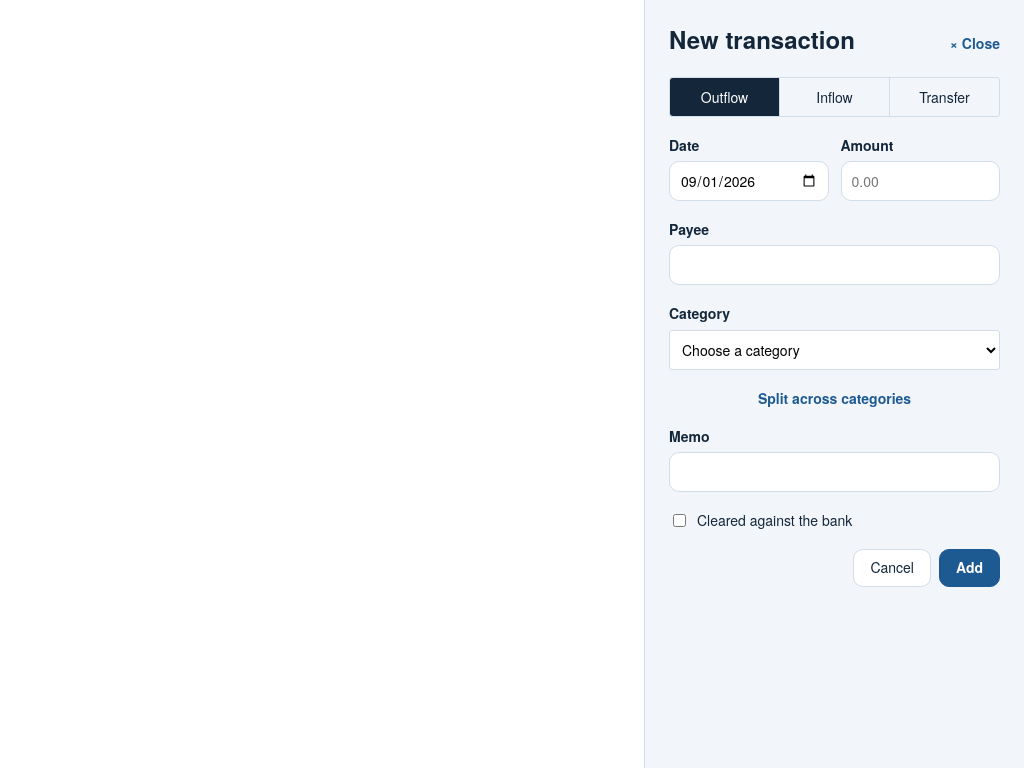
Test: TransactionForm (#54) › rejects split lines that do not add up to the total
Type "30.00" into the field labelled "Amount" at (920,181), box [840, 161, 1000, 201]
Click the button "Split across categories" at (834,398), box [669, 388, 1000, 408]
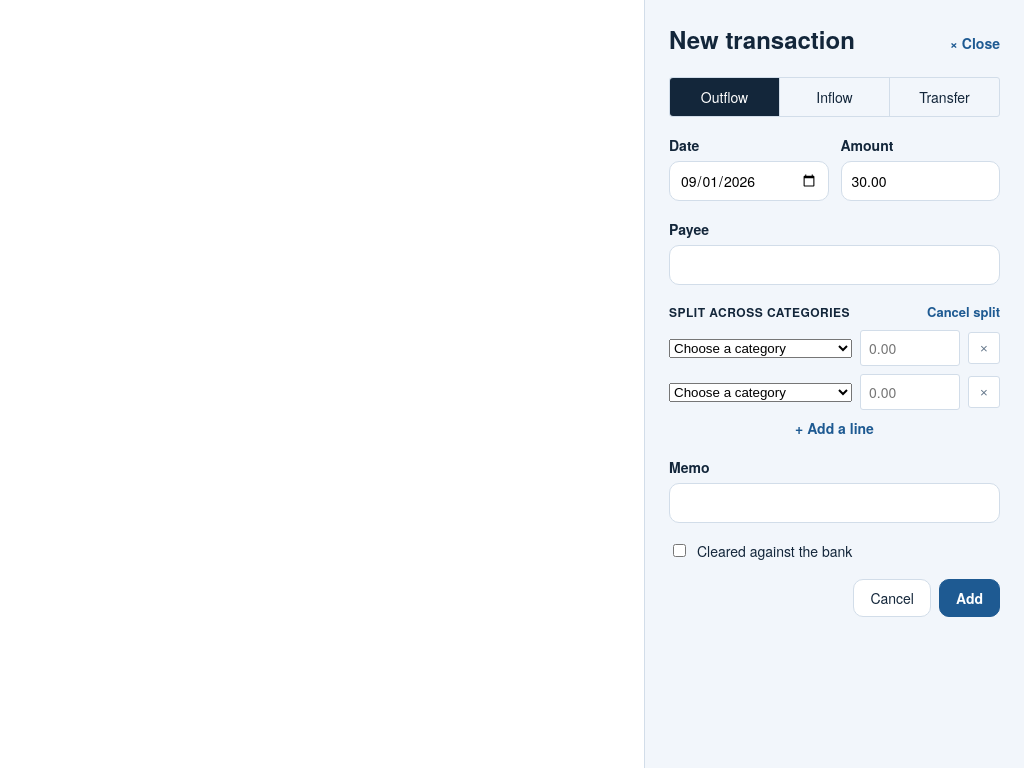
Select "Groceries" in the 1st dropdown named "Line 1 category" at (760,348), box [669, 339, 852, 358]
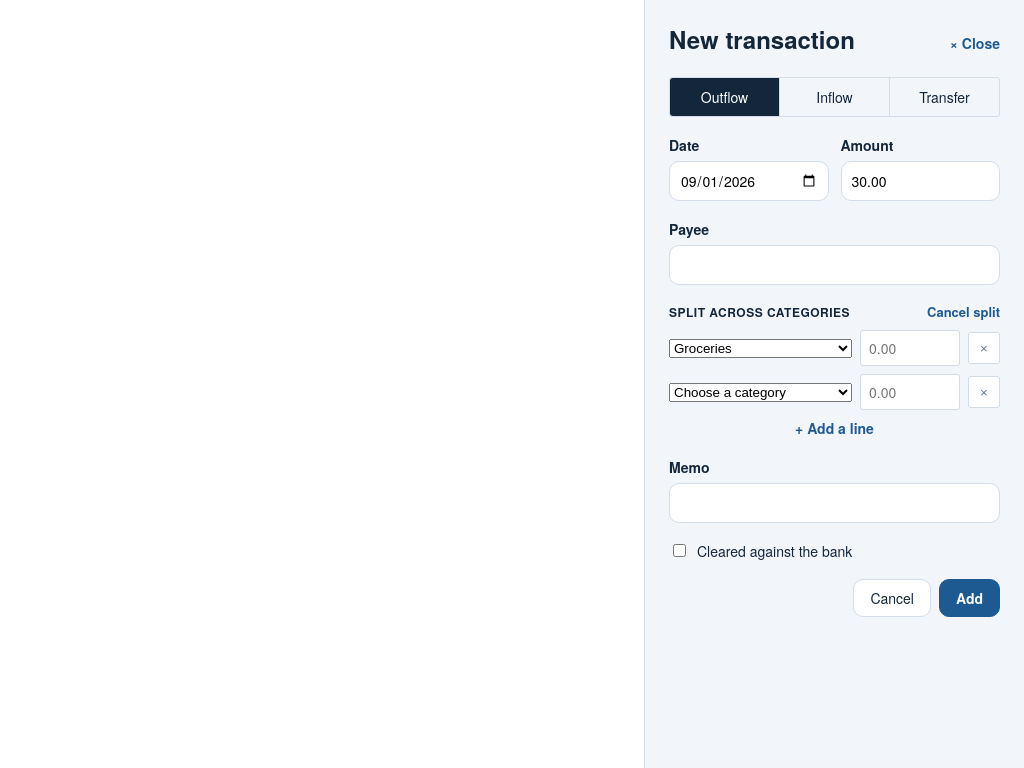
Type "20.00" into the field named "Line 1 amount" at (910,348), box [860, 330, 960, 366]
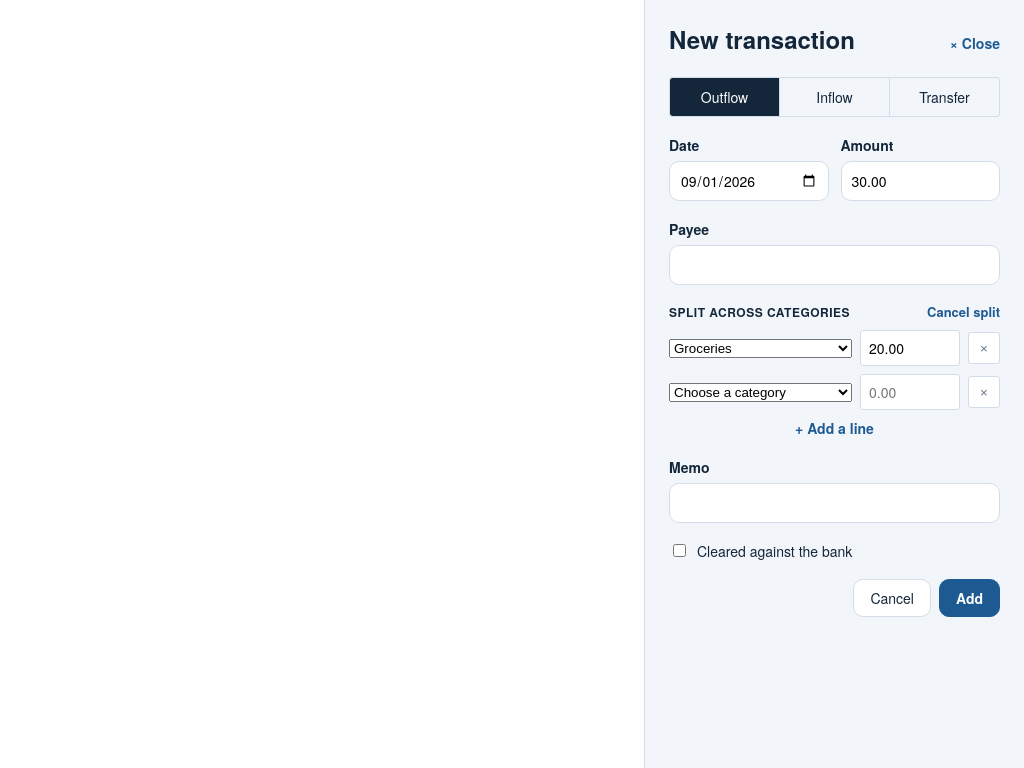
Select "Restaurants" in the 2nd dropdown named "Line 2 category" at (760,392), box [669, 383, 852, 402]
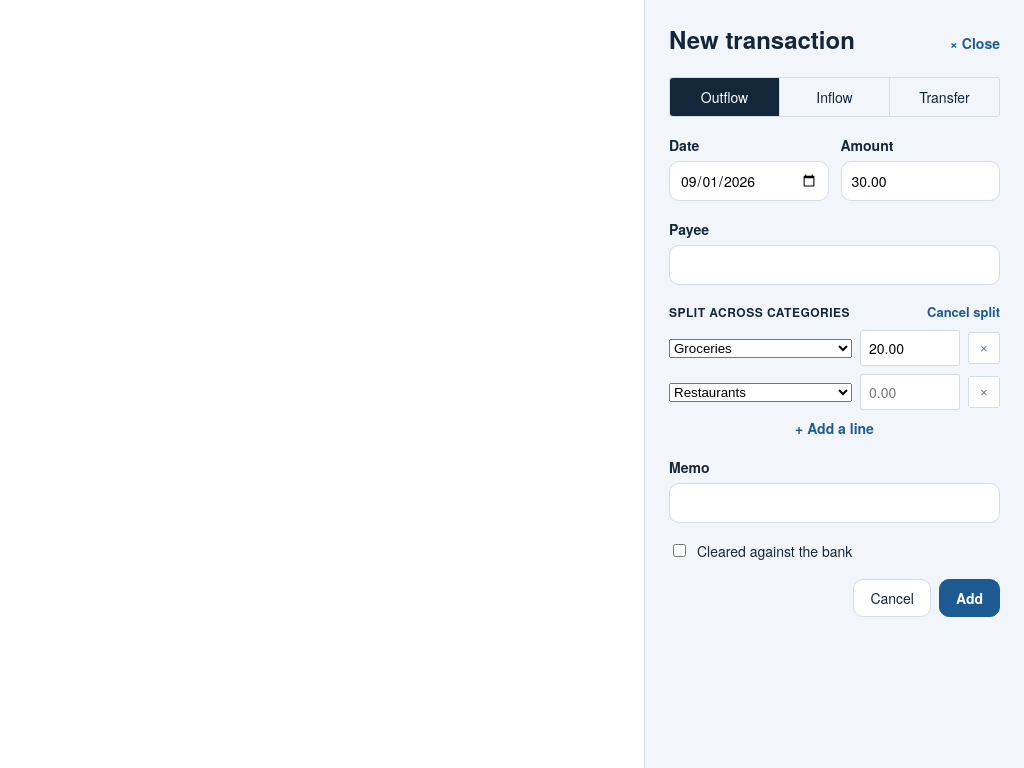
Type "5.00" into the field named "Line 2 amount" at (910,392), box [860, 374, 960, 410]
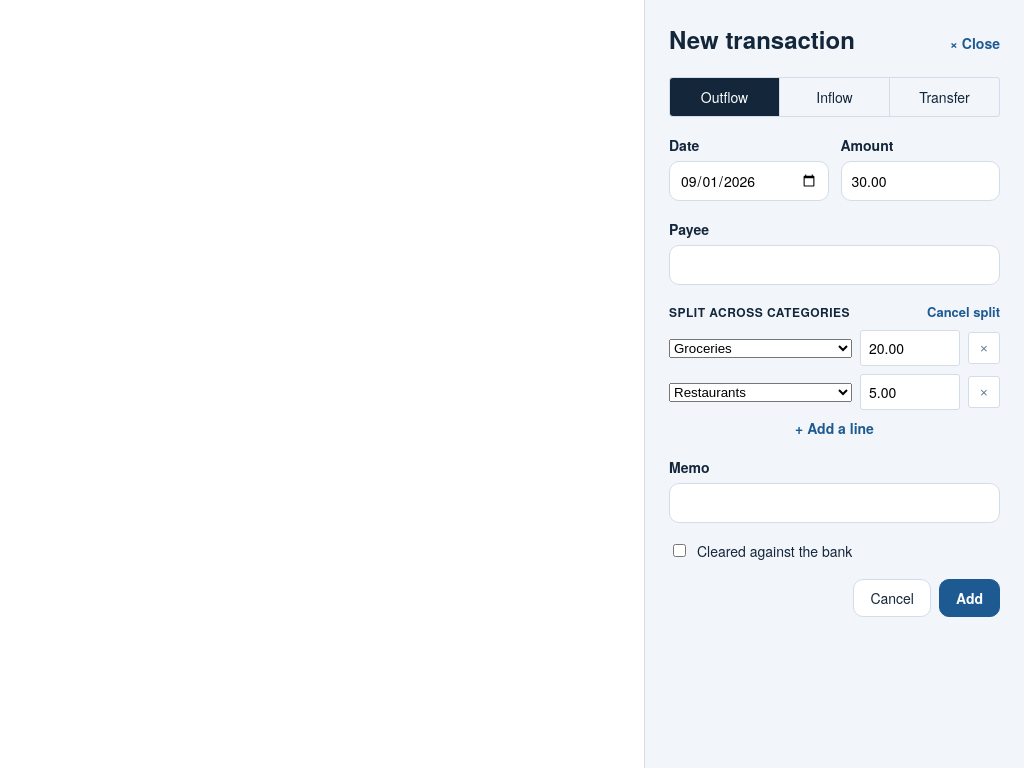
Click the button "Add" at (970,598), box [939, 579, 1000, 617]
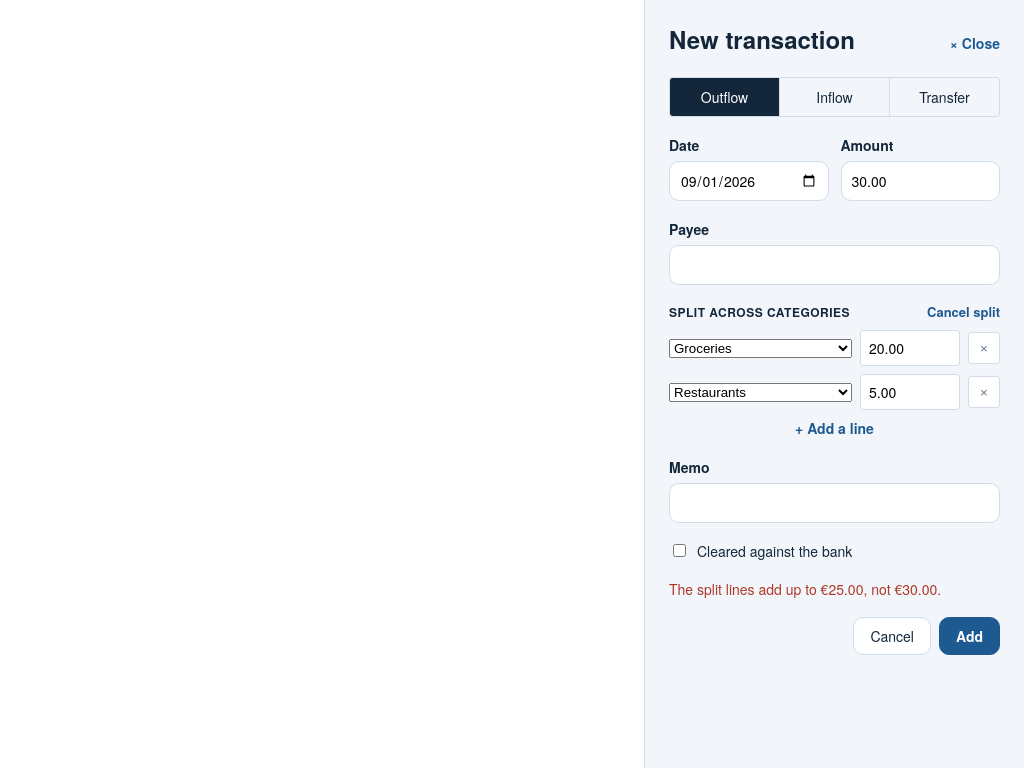
expect the message shows "The split lines add up to": met, box [669, 579, 941, 599]
